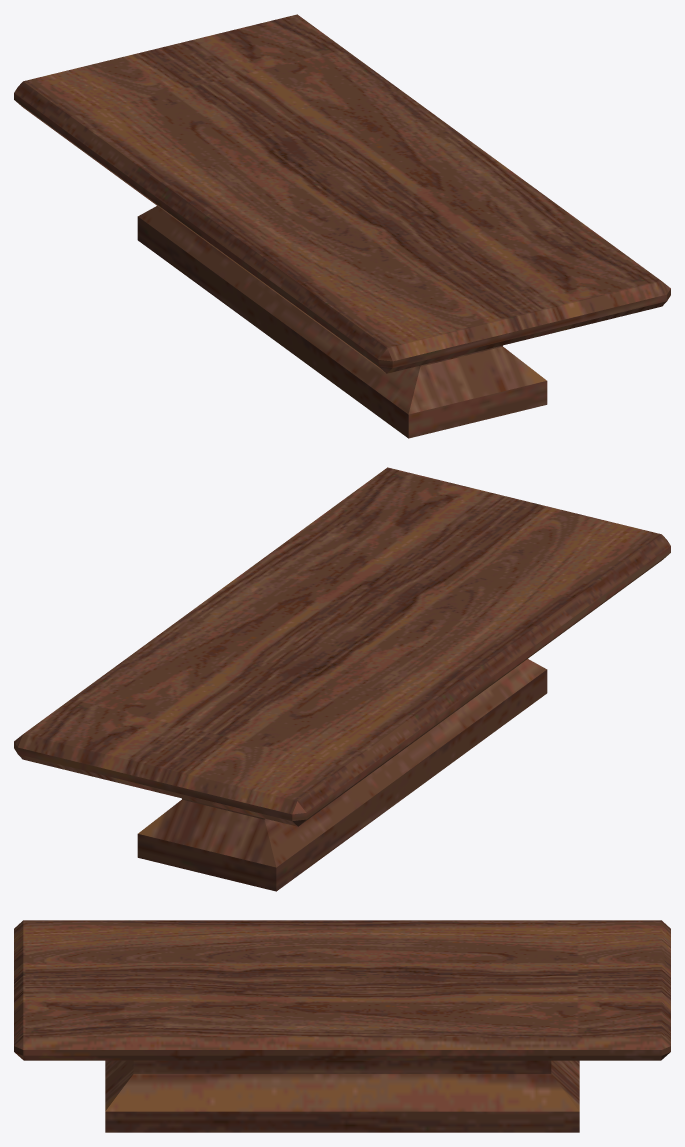
Rendered from table.fbx.
The picture shows the model from 3 angles, top to bottom: view 1: azimuth 30°, elevation 25°; view 2: azimuth 150°, elevation 25°; view 3: azimuth 270°, elevation 25°; orthographic projection. The views are drawn at different scales.
Visible parts, largest first — view 1: Cube; view 2: Cube; view 3: Cube.
Part boxes in pixels (left/top/right/bottom): Cube: left=14, top=14, right=670, bottom=438; Cube: left=14, top=467, right=670, bottom=891; Cube: left=14, top=920, right=670, bottom=1132.
Bounding box in the file's own units: 2.4 × 5.33 × 1.11.
1 material, 1 textured.
